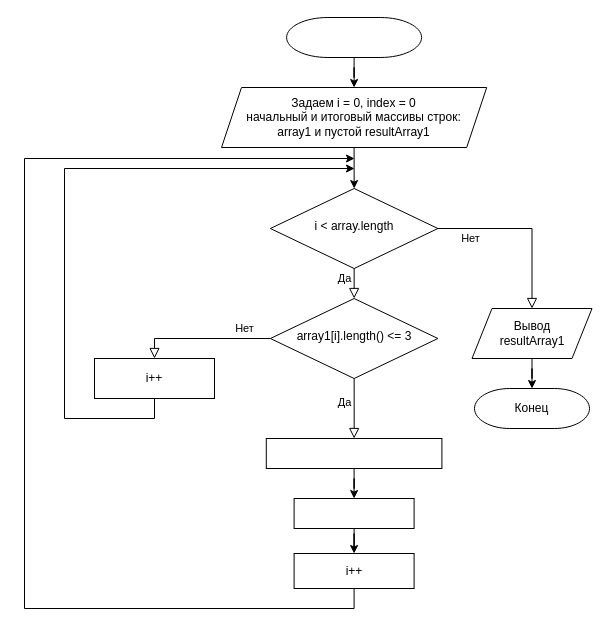
The diagram is 610 pixels wide and 634 high, and some of its shapes have lost their labels. Each missing label, with the centre of its shape:
"index++" goes at (x=353, y=513).
"resultArray1[index] = array1[i]" goes at (x=353, y=453).
"Начало" goes at (x=354, y=37).
